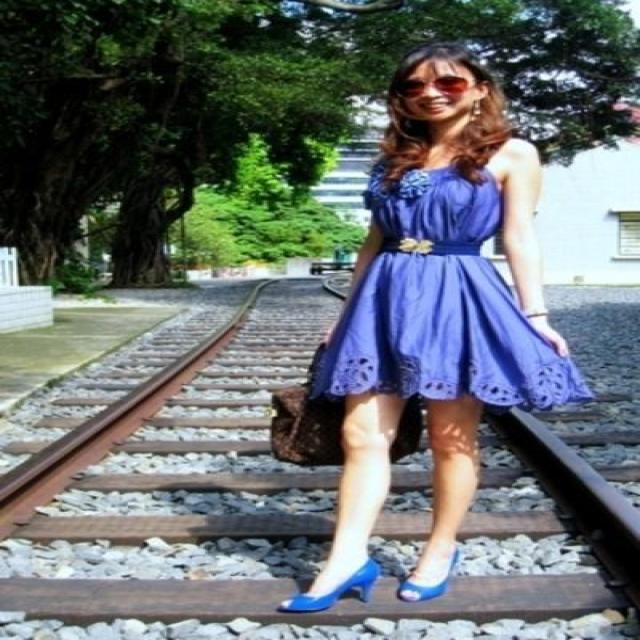bag: (250, 373, 432, 466)
dress: (293, 166, 590, 424)
shoe: (286, 559, 379, 609)
sunglass: (434, 64, 478, 103)
